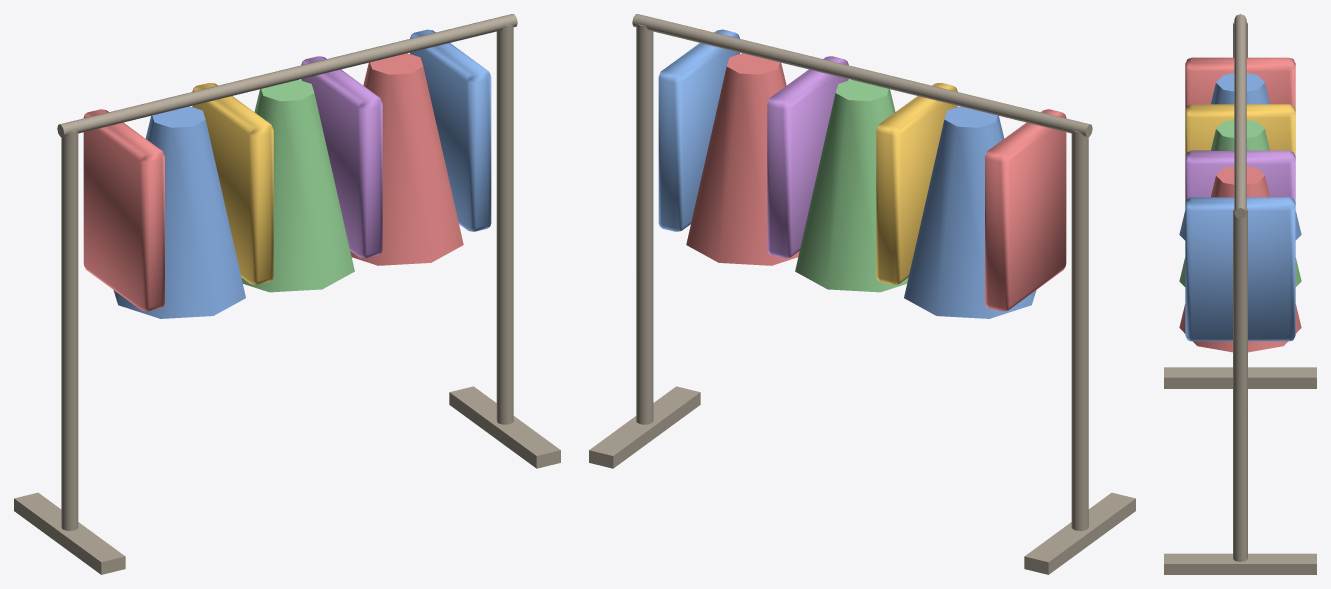
Rendered from v_furn_rack.glb.
3 views of the same model, side by side, from view 1: azimuth 30°, elevation 25°; view 2: azimuth 150°, elevation 25°; view 3: azimuth 270°, elevation 25° (orthographic). The views are drawn at different scales.
Parts seen in each view (by area): view 1: Rack; view 2: Rack; view 3: Rack.
Boxes of the visible parts, box(x1,y1,x2,y2) form: Rack: box(14, 14, 560, 574); Rack: box(589, 14, 1135, 574); Rack: box(1164, 14, 1316, 574).
Bounding box in the file's own units: 1.52 × 1.32 × 0.5.
